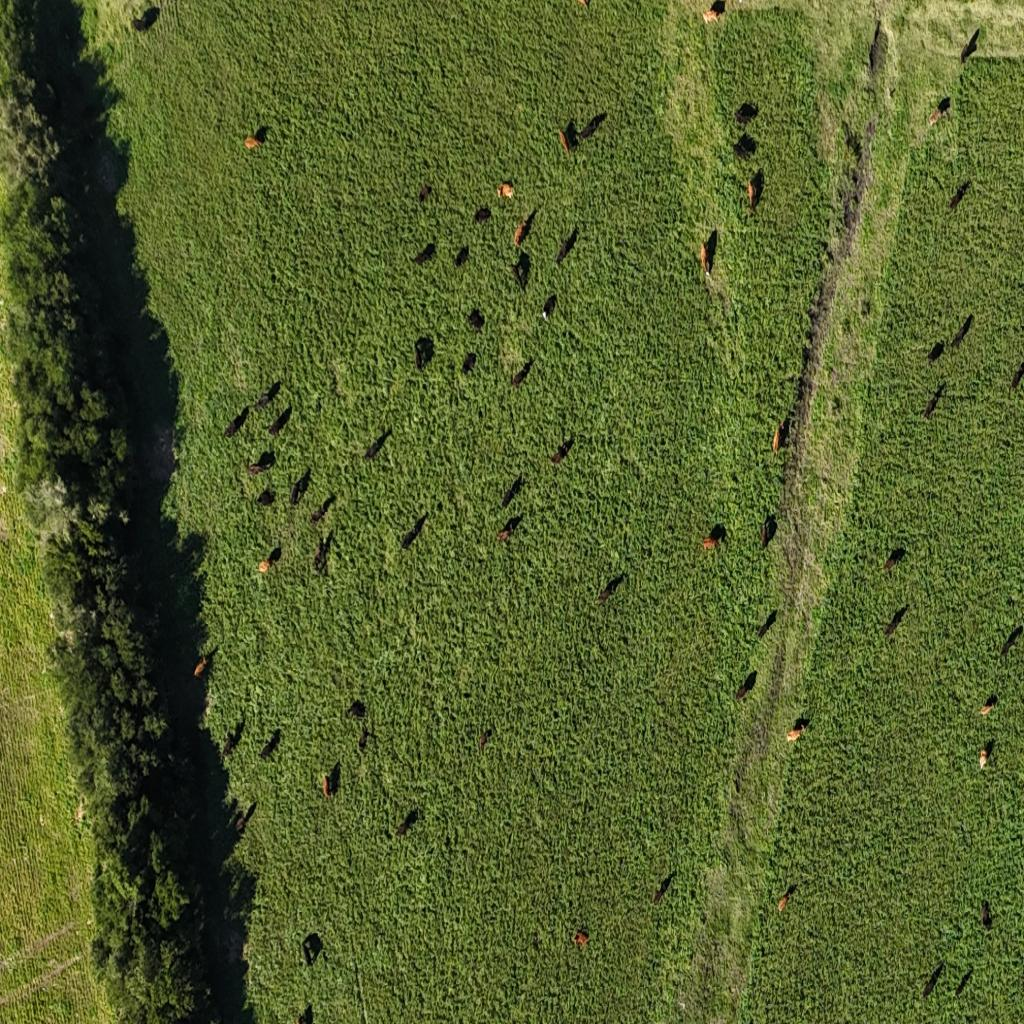cow: (597, 572, 625, 608), (401, 513, 427, 551), (869, 20, 886, 77), (514, 209, 536, 250), (364, 428, 392, 460), (555, 226, 577, 265), (884, 605, 908, 639), (999, 625, 1023, 659), (499, 478, 523, 512), (923, 383, 945, 420), (922, 960, 944, 997), (290, 468, 312, 505), (578, 113, 606, 141), (497, 513, 523, 543), (132, 5, 160, 32), (254, 381, 280, 410), (735, 670, 757, 704), (951, 314, 972, 349), (302, 932, 323, 967), (312, 495, 334, 528), (550, 435, 574, 465), (314, 534, 332, 574), (322, 760, 340, 799), (248, 451, 276, 476), (844, 122, 862, 160), (268, 405, 290, 436), (748, 169, 763, 214), (961, 28, 979, 65), (654, 872, 674, 905), (559, 121, 577, 157), (733, 133, 757, 160), (773, 416, 790, 454), (236, 802, 256, 834), (225, 409, 247, 438), (734, 102, 758, 128), (514, 252, 530, 291), (396, 809, 418, 837), (259, 546, 281, 574), (928, 97, 950, 125), (842, 197, 859, 233), (948, 181, 968, 211), (412, 243, 436, 268), (260, 730, 280, 760), (760, 514, 776, 550), (757, 610, 776, 640), (701, 2, 723, 27), (883, 548, 904, 574), (955, 967, 973, 997), (787, 719, 809, 743), (512, 361, 532, 387), (778, 884, 796, 912), (702, 533, 724, 554), (927, 341, 945, 366), (540, 294, 556, 322), (346, 699, 366, 721), (254, 488, 276, 508), (467, 308, 485, 331), (572, 927, 590, 949), (980, 694, 997, 717), (222, 732, 236, 759), (295, 1003, 313, 1024), (454, 245, 470, 268), (980, 899, 992, 929), (699, 241, 709, 277), (244, 134, 264, 152), (474, 206, 492, 226), (414, 341, 426, 371), (478, 727, 492, 751), (462, 351, 476, 375), (498, 179, 514, 200), (80, 129, 96, 149), (193, 657, 208, 678), (1015, 360, 1024, 393), (978, 746, 990, 770), (418, 184, 432, 204), (254, 126, 268, 144), (358, 726, 368, 751), (732, 774, 742, 798), (311, 510, 323, 530), (234, 814, 246, 834), (322, 778, 332, 800), (132, 16, 144, 32), (828, 366, 838, 384), (823, 247, 833, 265), (533, 932, 540, 950), (888, 85, 896, 100), (962, 1013, 974, 1023), (700, 913, 707, 925)
